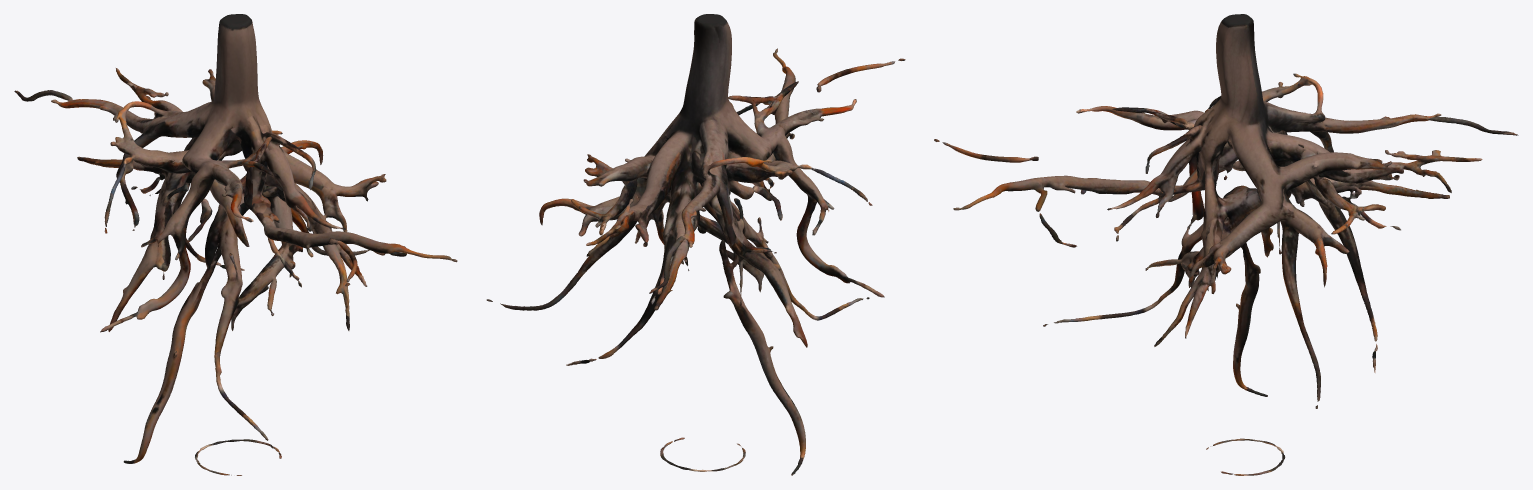
Rendered from Raiz.glb.
3 views of the same model, side by side, from view 1: azimuth 30°, elevation 25°; view 2: azimuth 150°, elevation 25°; view 3: azimuth 270°, elevation 25° (orthographic).
Parts seen in each view (by area): view 1: tripo_node_72c5a87a-5240-4501-89ba-cb5727dfd209; view 2: tripo_node_72c5a87a-5240-4501-89ba-cb5727dfd209; view 3: tripo_node_72c5a87a-5240-4501-89ba-cb5727dfd209.
Part boxes in pixels (<box>): tripo_node_72c5a87a-5240-4501-89ba-cb5727dfd209: <box>14,14,457,475</box>; tripo_node_72c5a87a-5240-4501-89ba-cb5727dfd209: <box>486,14,905,475</box>; tripo_node_72c5a87a-5240-4501-89ba-cb5727dfd209: <box>934,14,1518,475</box>.
Bounding box in the file's own units: 0.5678 × 0.6948 × 0.8426.
1 material, 1 textured.
